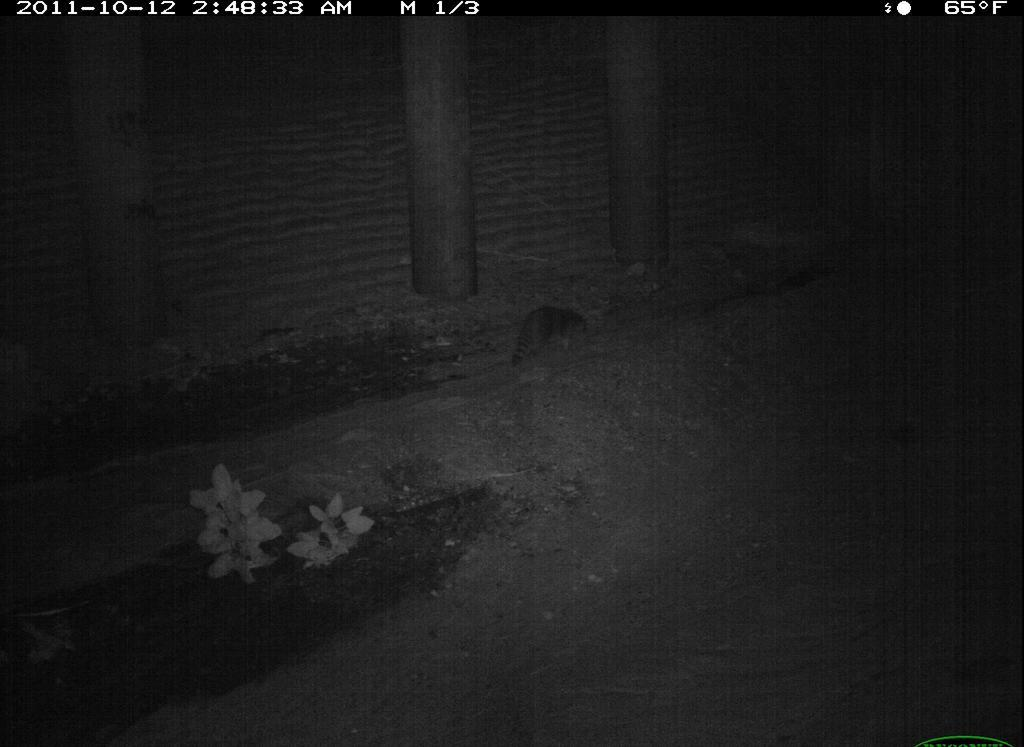raccoon: (1009, 602, 1024, 743)
